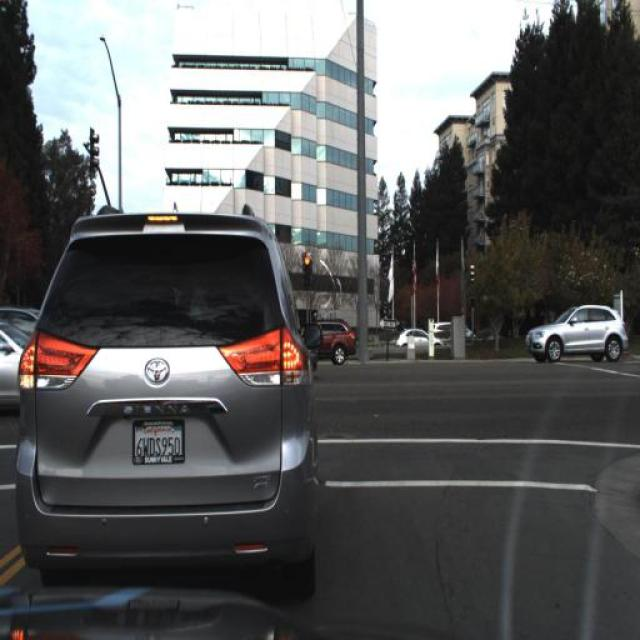car: (14, 200, 324, 582), (519, 286, 633, 373), (522, 303, 630, 367), (300, 320, 360, 370), (398, 328, 442, 352)
trafficLight-RedLeft: (300, 245, 314, 290)
